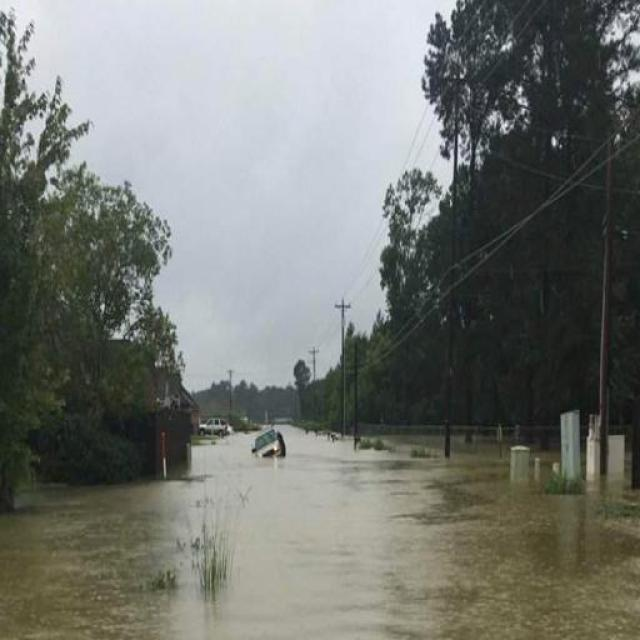puddle: (8, 510, 618, 636), (202, 466, 483, 536)
